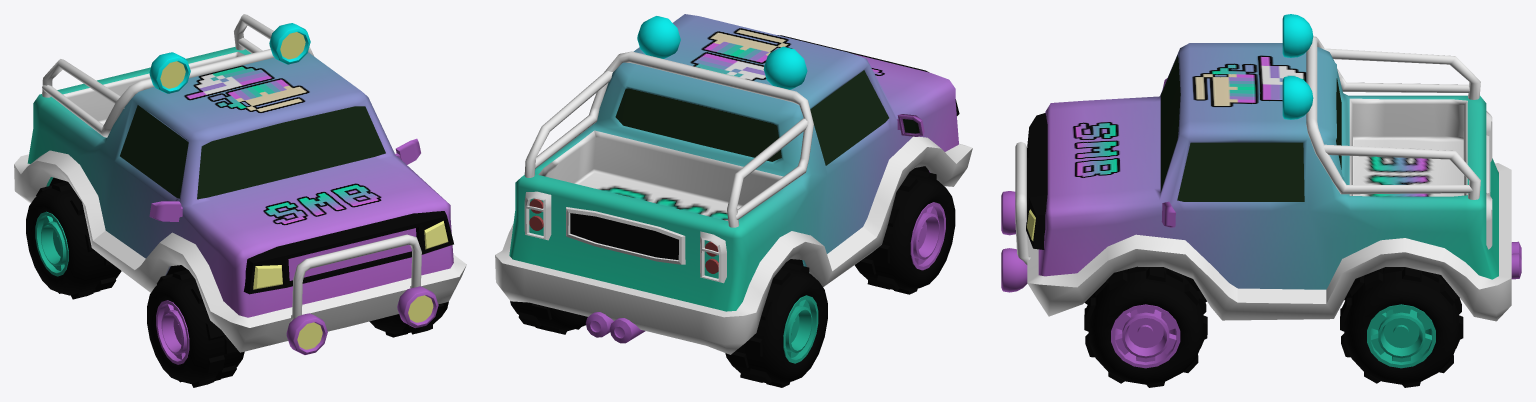
3 renders of one model, left to right at view 1: azimuth 30°, elevation 25°; view 2: azimuth 150°, elevation 25°; view 3: azimuth 270°, elevation 25°, orthographic. The views are drawn at different scales.
Visible parts, largest first — view 1: evo3_bodyEvo:PIV, evo3_sill3:PIV, evo3_glassFront:PIV, evo3_tireFR:PIV, evo3_tireBL:PIV, evo3_blockFront:PIV, evo3_pole_back4:PIV, evo3_glassR:PIV, evo3_pole_front4:PIV, evo3_blockFrontb:PIV, evo3_rimFR:PIV, evo3_rimBR:PIV (+13 smaller); view 2: evo3_bodyEvo:PIV, evo3_sill3:PIV, evo3_pole_back4:PIV, evo3_glassBack:PIV, evo3_tireBL:PIV, evo3_tireFR:PIV, evo3_glassR:PIV, evo3_plackBack:PIV, evo3_rimFR:PIV, evo3_rimBR:PIV, evo3_blockBlack:PIV, evo3_tireBR:PIV (+5 smaller); view 3: evo3_bodyEvo:PIV, evo3_sill3:PIV, evo3_tireBR:PIV, evo3_tireFL:PIV, evo3_pole_back4:PIV, evo3_glassL:PIV, evo3_rimFL:PIV, evo3_rimBL:PIV, evo3_blockFront:PIV, evo3_glassFront:PIV, evo3_pole_front4:PIV, evo3_polySurface18:PIV (+3 smaller).
Boxes of the visible parts, x1,y1,x2,y2 form: evo3_bodyEvo:PIV: [27, 46, 453, 317]; evo3_sill3:PIV: [14, 150, 466, 352]; evo3_glassFront:PIV: [197, 106, 385, 199]; evo3_tireFR:PIV: [147, 269, 244, 387]; evo3_tireBL:PIV: [26, 181, 121, 299]; evo3_blockFront:PIV: [243, 211, 453, 294]; evo3_pole_back4:PIV: [42, 14, 314, 137]; evo3_glassR:PIV: [120, 105, 188, 198]; evo3_pole_front4:PIV: [291, 234, 421, 321]; evo3_blockFrontb:PIV: [288, 228, 416, 280]; evo3_rimFR:PIV: [156, 300, 189, 364]; evo3_rimBR:PIV: [35, 211, 68, 276]; evo3_bodyEvo:PIV: [509, 14, 958, 311]; evo3_sill3:PIV: [495, 136, 972, 354]; evo3_pole_back4:PIV: [524, 51, 813, 227]; evo3_glassBack:PIV: [615, 88, 781, 161]; evo3_tireBL:PIV: [725, 262, 827, 387]; evo3_tireFR:PIV: [854, 169, 955, 294]; evo3_glassR:PIV: [810, 70, 888, 165]; evo3_plackBack:PIV: [570, 213, 678, 259]; evo3_rimFR:PIV: [910, 202, 945, 270]; evo3_rimBR:PIV: [783, 295, 818, 363]; evo3_blockBlack:PIV: [566, 207, 685, 264]; evo3_tireBR:PIV: [510, 301, 587, 334]; evo3_bodyEvo:PIV: [1038, 43, 1498, 289]; evo3_sill3:PIV: [1027, 163, 1511, 321]; evo3_tireBR:PIV: [1340, 267, 1463, 387]; evo3_tireFL:PIV: [1084, 266, 1207, 387]; evo3_pole_back4:PIV: [1306, 36, 1480, 199]; evo3_glassL:PIV: [1177, 142, 1304, 201]; evo3_rimFL:PIV: [1111, 304, 1180, 368]; evo3_rimBL:PIV: [1367, 304, 1435, 368]; evo3_blockFront:PIV: [1026, 113, 1047, 249]; evo3_glassFront:PIV: [1160, 55, 1180, 192]; evo3_pole_front4:PIV: [1015, 142, 1030, 264]; evo3_polySurface18:PIV: [1282, 76, 1313, 119].
Size of the model in its own units: 187 by 175 by 295.
11 materials, 1 textured.
